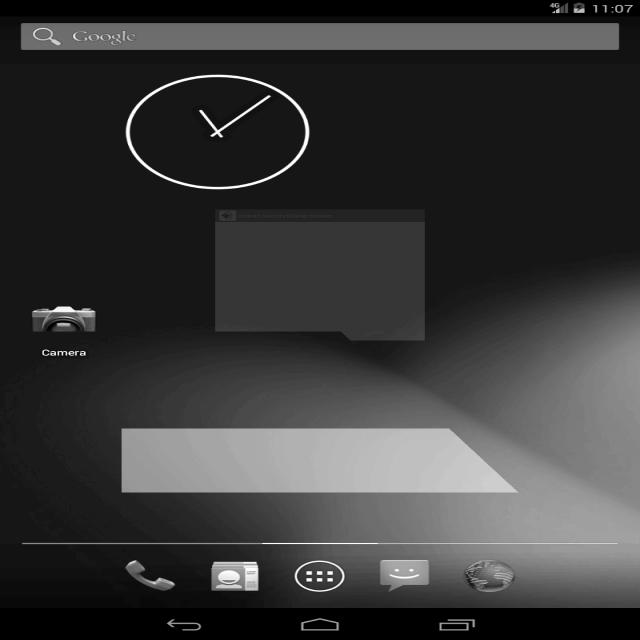EditText: (13, 20, 626, 56)
ImageView: (455, 554, 522, 596), (26, 303, 107, 335), (374, 555, 437, 595), (116, 555, 182, 593), (205, 556, 264, 595)
